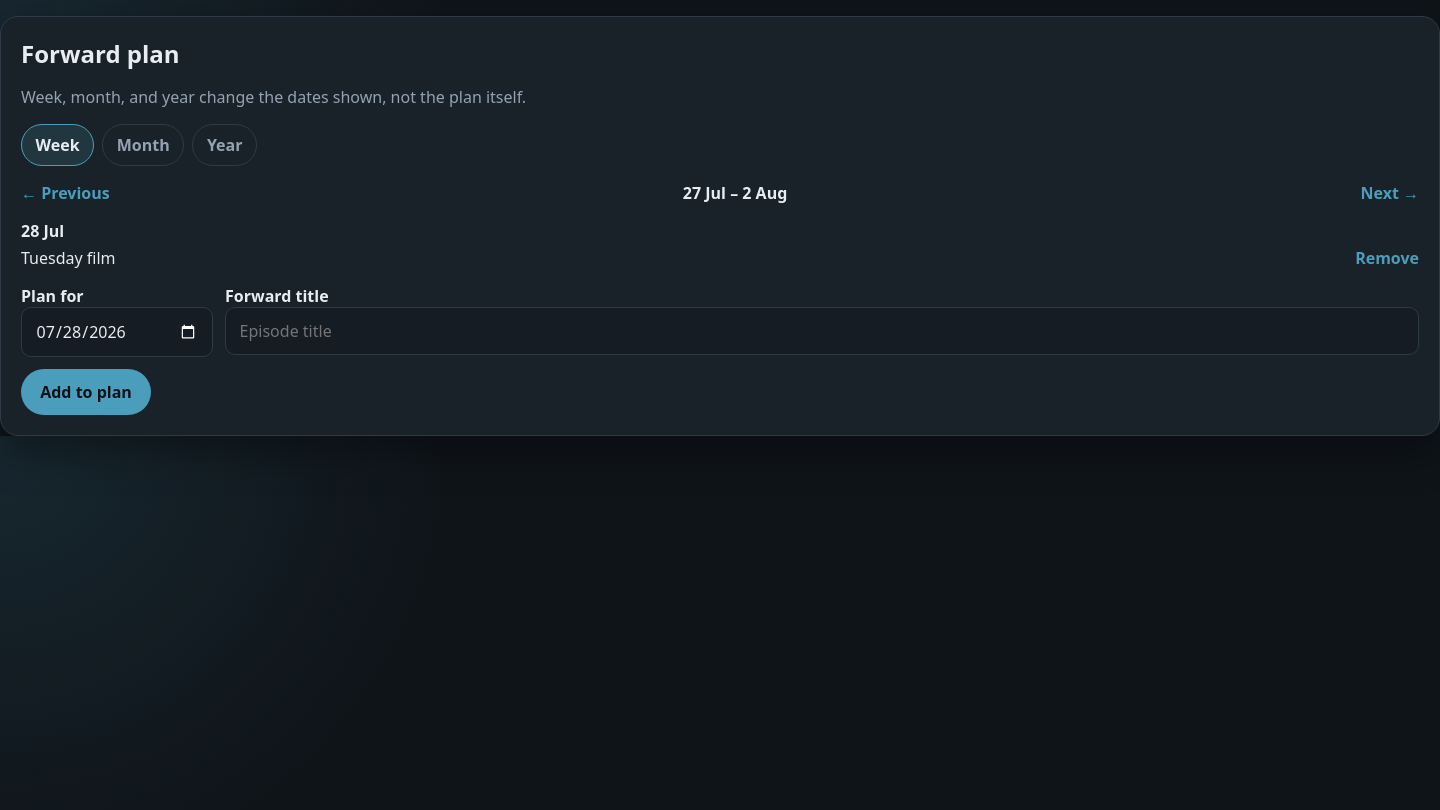
Scenario: ForwardPlanSection › adds a future title through forward POST and removes it
Expected: the text "Tuesday film" is shown, x1=21 y1=247 x2=116 y2=269
Type "2026-07-30" into the date field labelled "Plan for". click: (117, 332)
box: x1=21 y1=307 x2=213 y2=357
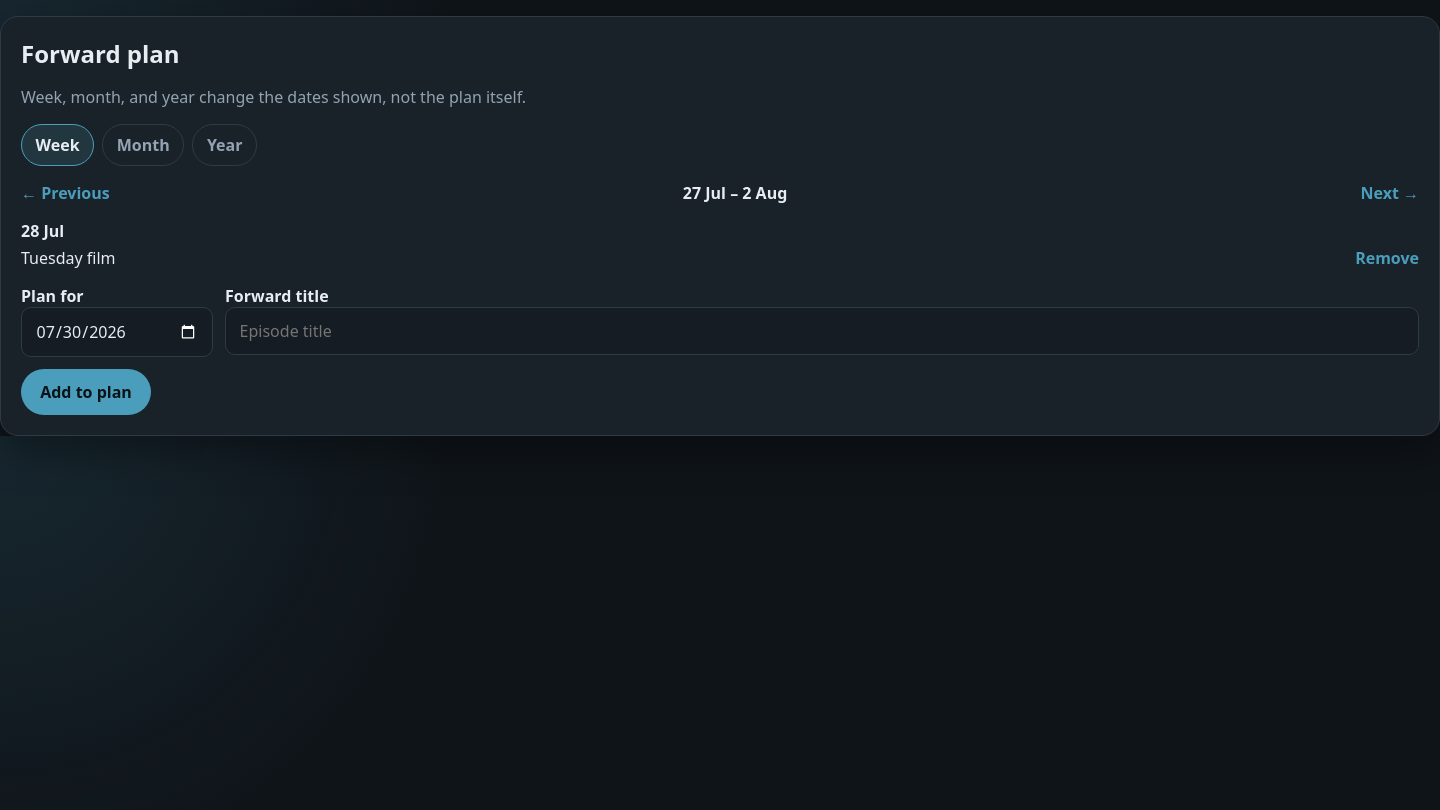
Type "Thursday episode" into the field labelled "Forward title". click: (822, 331)
box: x1=225 y1=307 x2=1419 y2=355
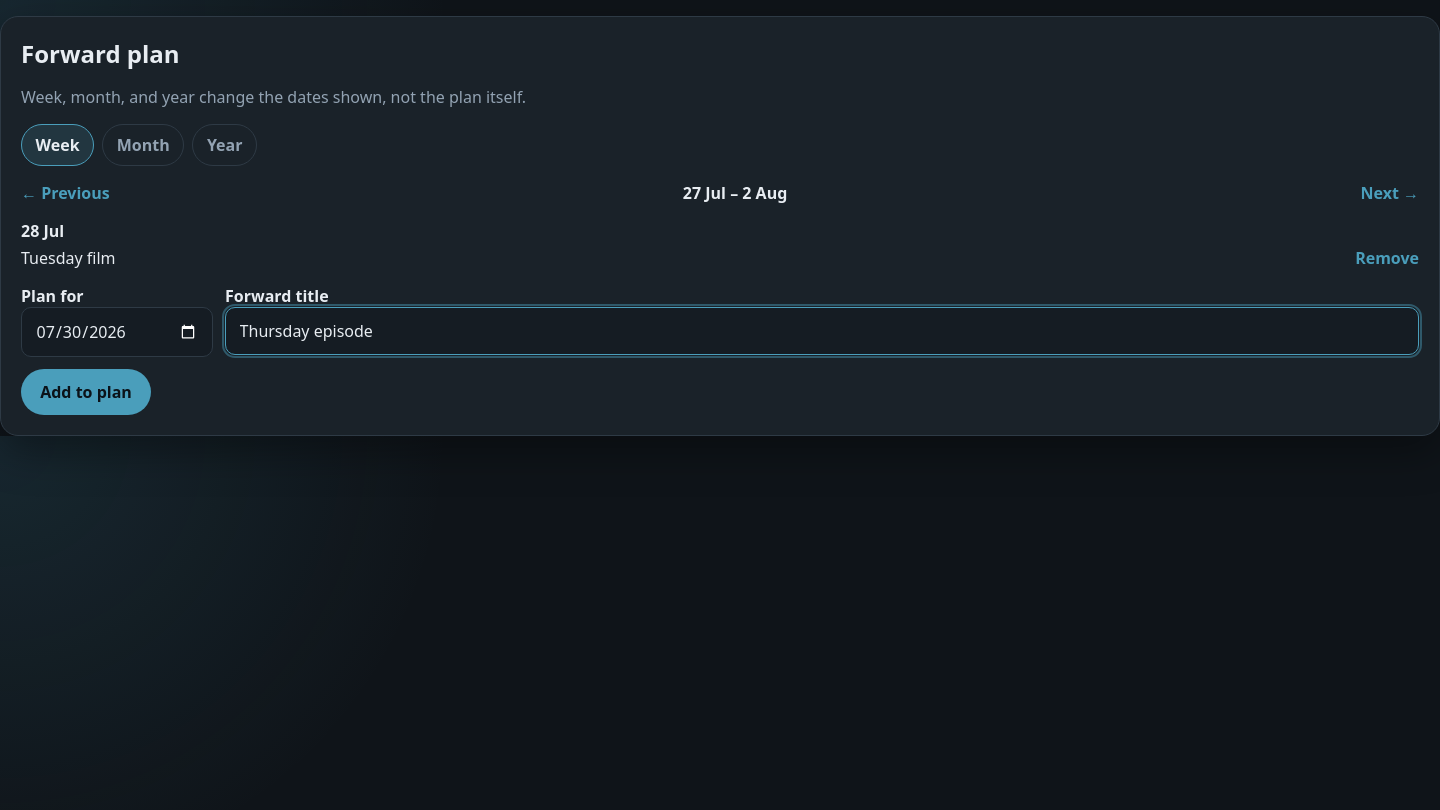
Click the button "Add to plan". click: (86, 392)
box: x1=21 y1=369 x2=151 y2=415
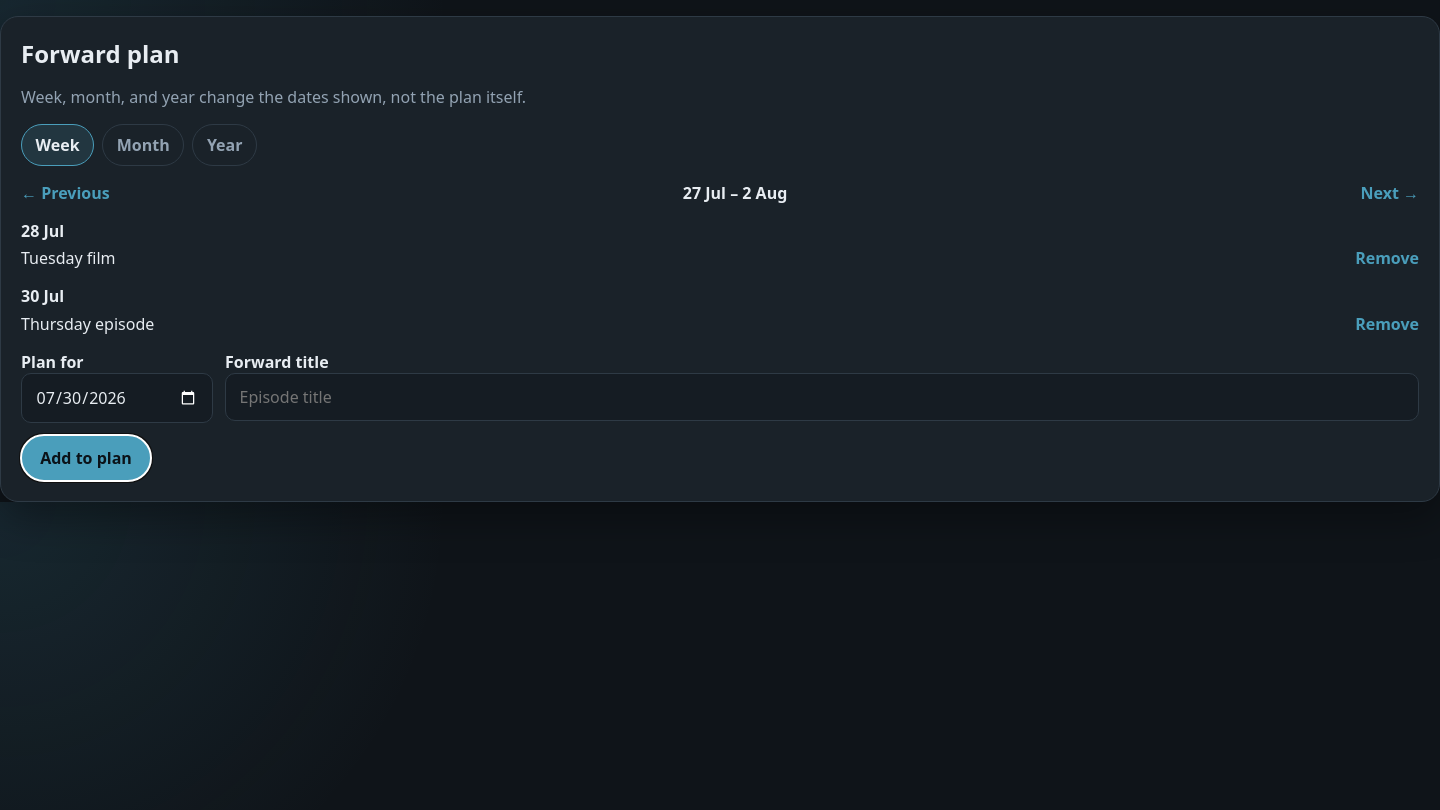
Expected: the text "Thursday episode" is shown, x1=21 y1=313 x2=154 y2=335
Click the button with aria-label "Remove Tuesday film". click: (1387, 258)
box: x1=1355 y1=247 x2=1419 y2=269
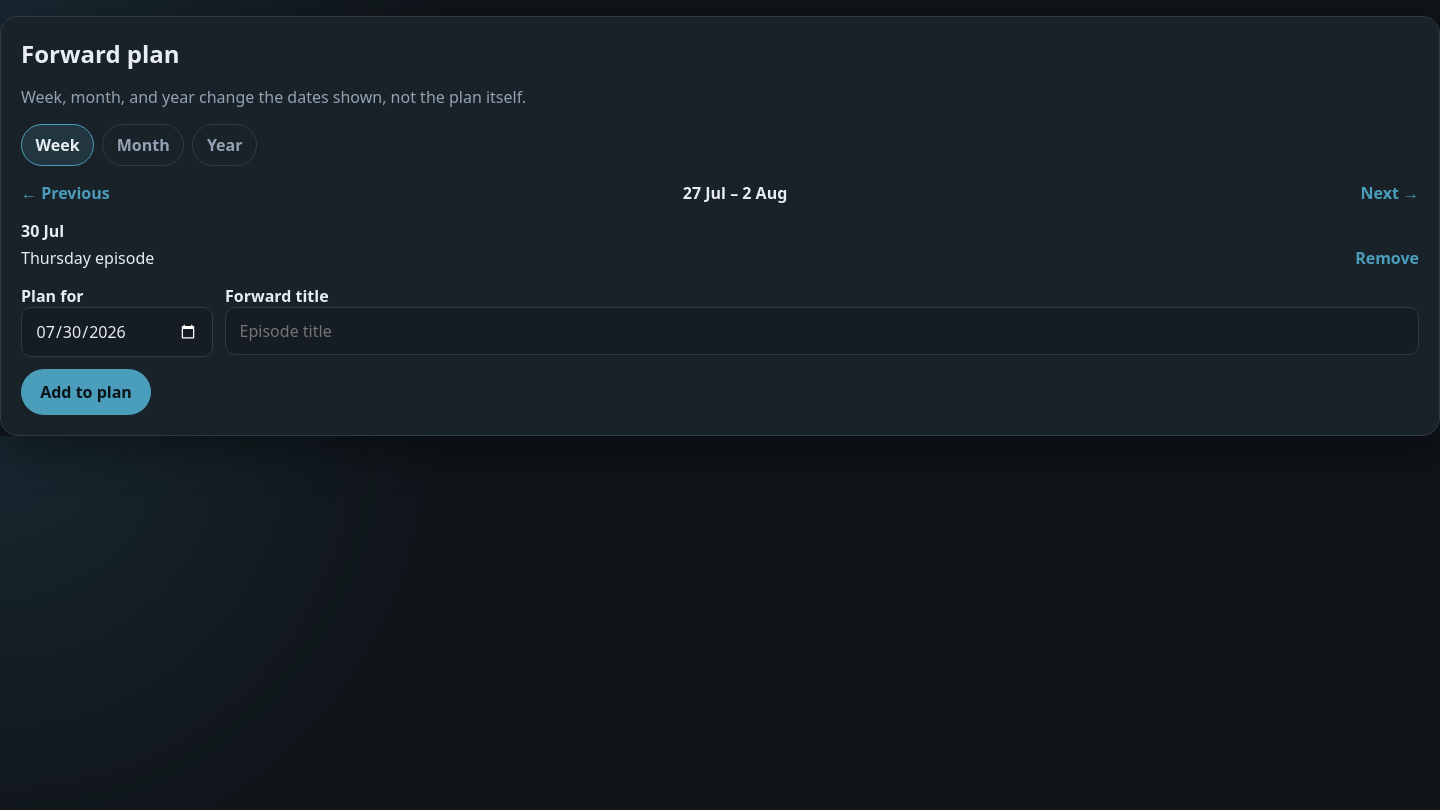
Expected: the text "Tuesday film" is gone
